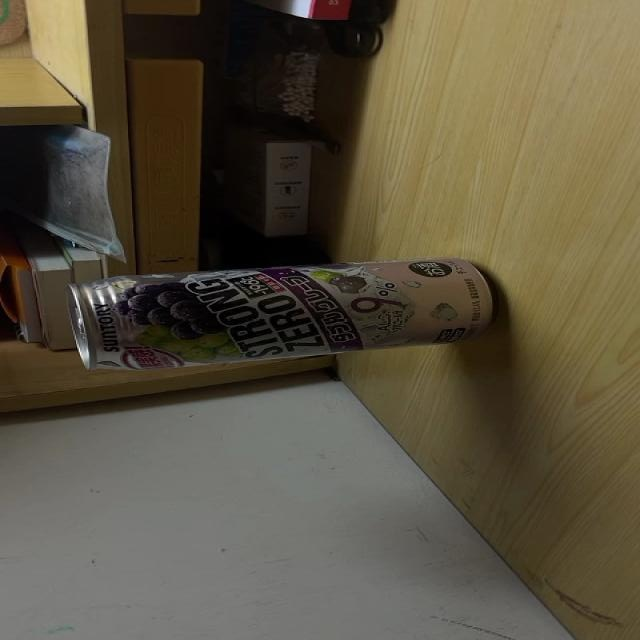Liquor: (67, 258, 500, 371)
